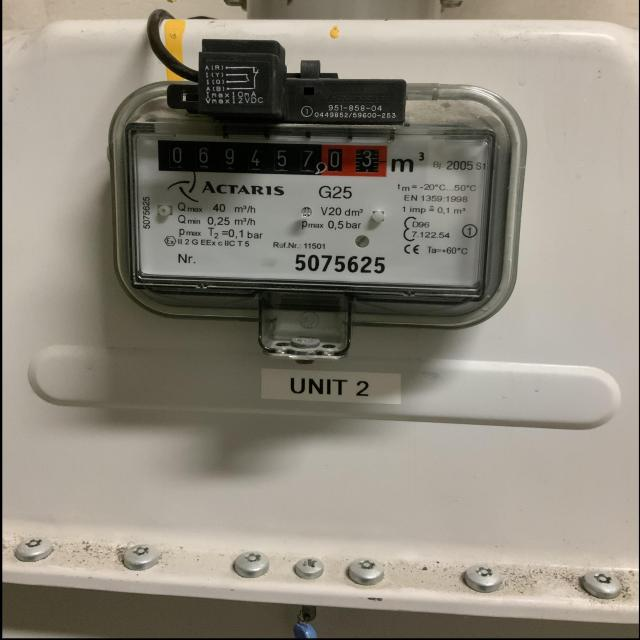gaz_meter: (128, 126, 490, 288)
indication: (159, 140, 386, 177)
